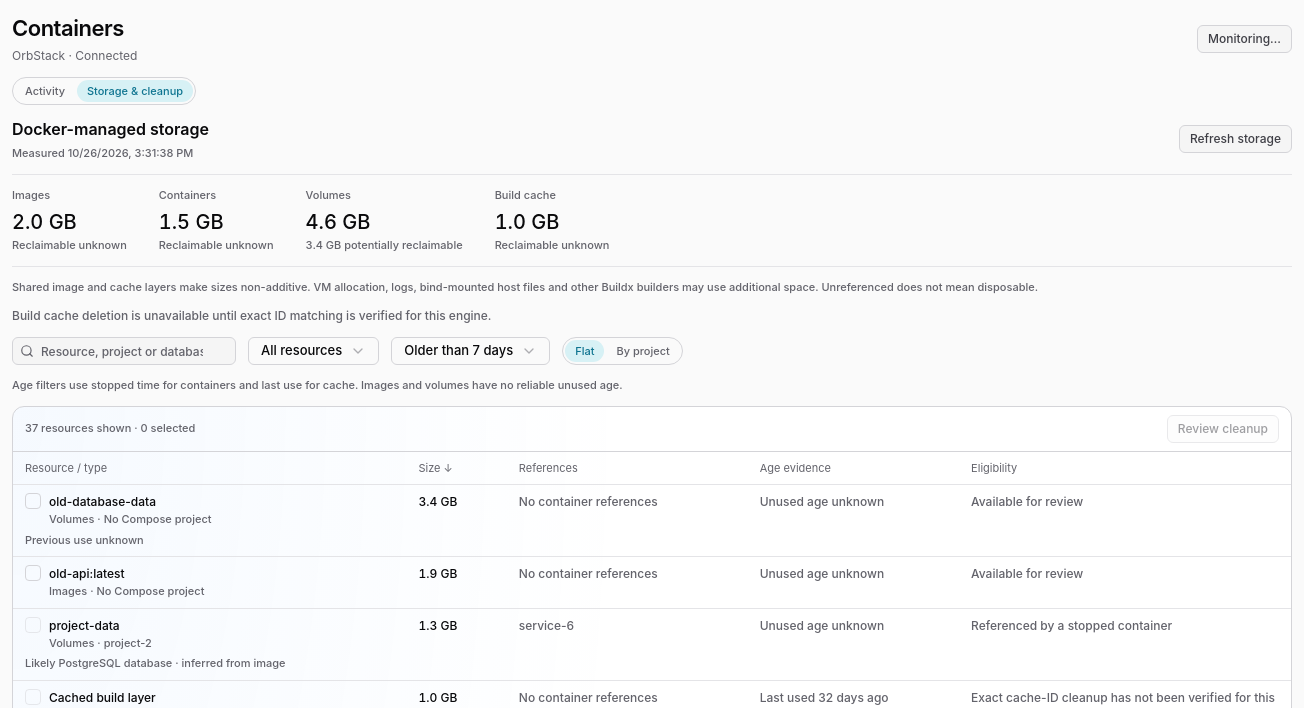
Test: shows failed refresh with retained data and disables cleanup until a good scan
Click the checkbox named "Select old-database-data" at (33, 501), box [25,493,41,509]
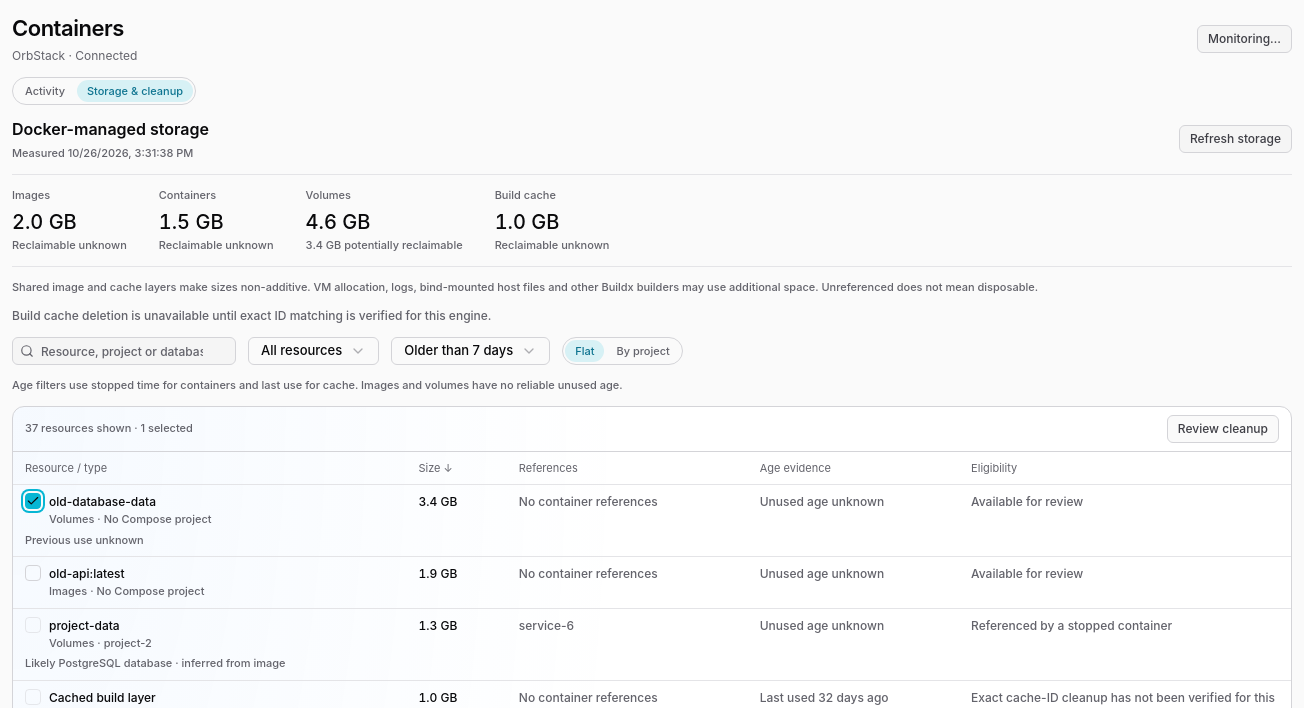
Click the button "Refresh storage" at (1235, 139), box [1179,125,1292,153]
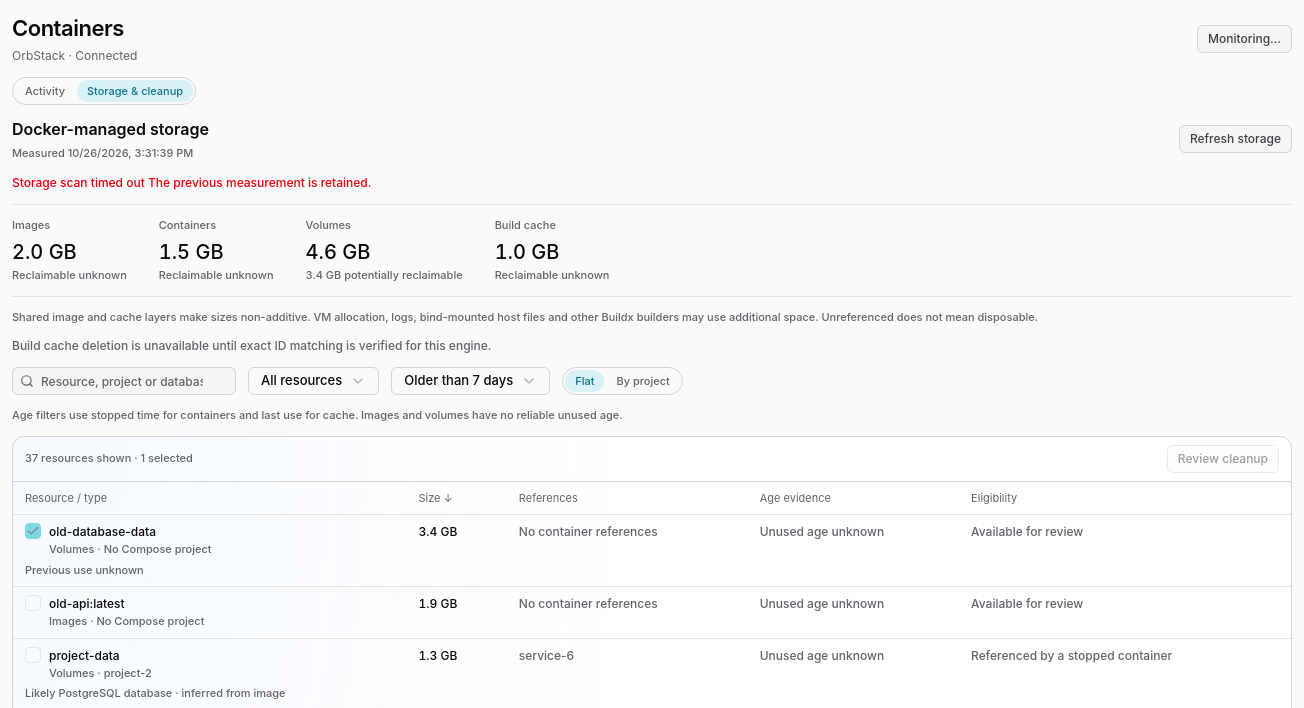
Expected: the message shows "Storage scan timed out", [12,174,145,190]
Expected: the button "Review cleanup" is disabled, [1167,444,1279,472]
Expected: the checkbox named "Select old-database-data" is disabled, [25,523,41,539]
